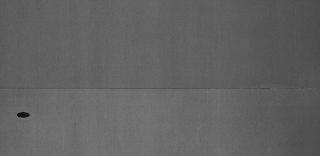punching hole: (15, 110, 37, 120)
welding line: (3, 83, 320, 95)
